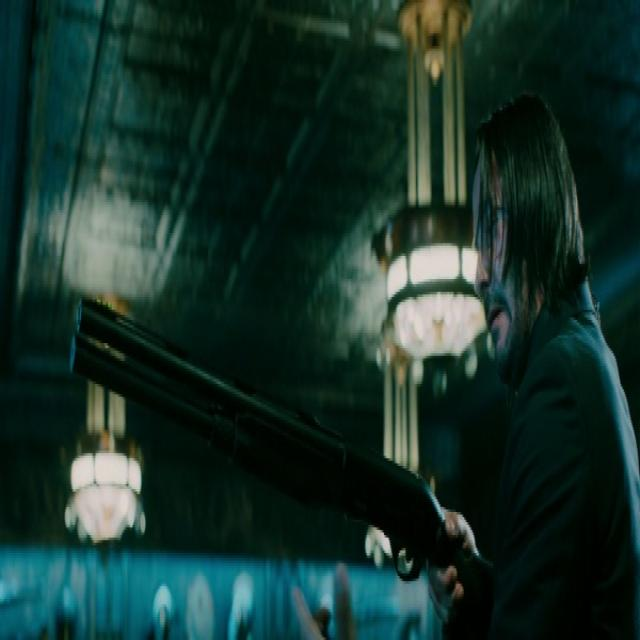rifle: (69, 285, 502, 622)
